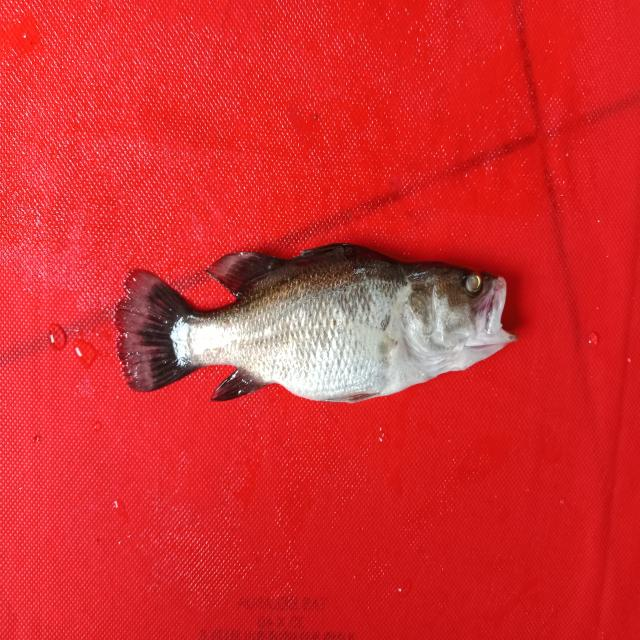ikan: (106, 202, 536, 433)
